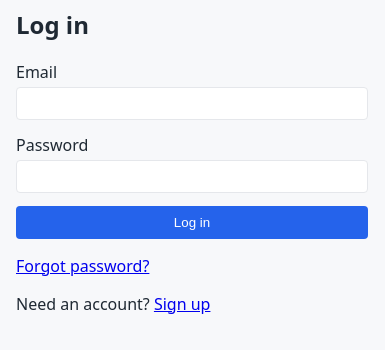
Test: LoginPage › shows a generic error on 401 bad credentials (negative)
Type "user@example.com" into the field labelled "Email".
click(192, 103); type("user@example.com")  # box x1=16 y1=87 x2=368 y2=120
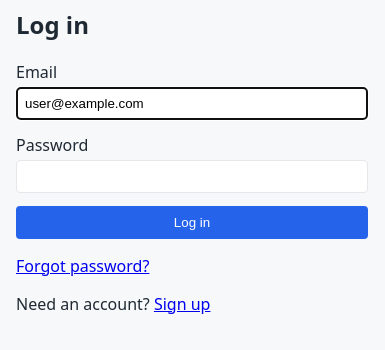
Type "wrong" into the password field labelled "Password".
click(192, 176); type("wrong")  # box x1=16 y1=160 x2=368 y2=192
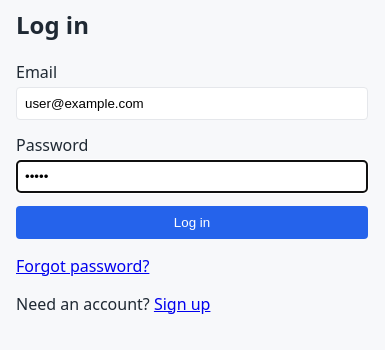
Click the button "Log in".
click(192, 222)  # box x1=16 y1=206 x2=368 y2=239
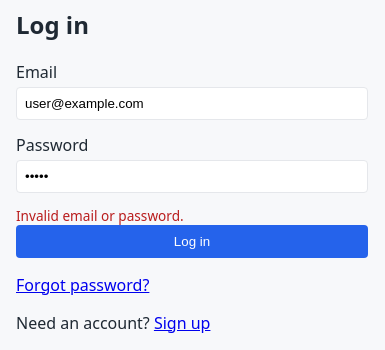
Result: the text "Invalid email or password." is shown at x1=16 y1=206 x2=184 y2=225
